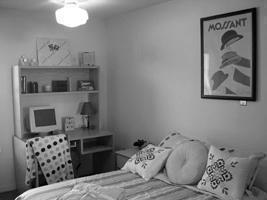Cama: (16, 144, 260, 198)
